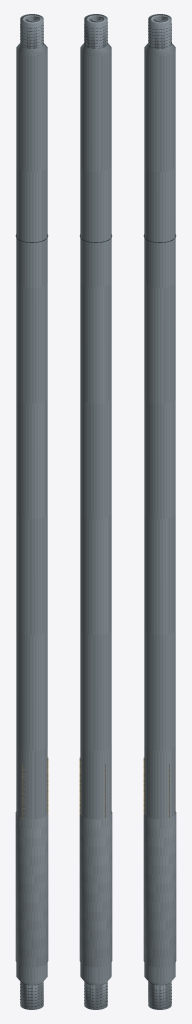
The model's file is rss.glb.
3 renders of one model, left to right at view 1: azimuth 90°, elevation 25°; view 2: azimuth 150°, elevation 25°; view 3: azimuth 270°, elevation 25°, orthographic.
Parts seen in each view (by area): view 1: tool-housing (×2), bearing-housing (×2), uphole-connection, downhole-connection; view 2: tool-housing (×2), bearing-housing (×2), uphole-connection, downhole-connection, steering-pads; view 3: tool-housing (×2), bearing-housing (×2), uphole-connection, downhole-connection.
Part boxes in pixels (box(x1,y1,x2,y2)): tool-housing (×2): box(16, 14, 47, 1009); bearing-housing (×2): box(15, 811, 48, 967); uphole-connection: box(20, 14, 43, 48); downhole-connection: box(20, 982, 43, 1009); tool-housing (×2): box(80, 14, 111, 1009); bearing-housing (×2): box(79, 811, 112, 967); uphole-connection: box(84, 14, 107, 48); downhole-connection: box(86, 982, 107, 1009); steering-pads: box(79, 758, 105, 818); tool-housing (×2): box(144, 14, 175, 1009); bearing-housing (×2): box(143, 811, 176, 967); uphole-connection: box(148, 14, 171, 48); downhole-connection: box(148, 982, 171, 1009).
Size of the model in its own units: 0.1195 by 4 by 0.1195.
3 materials, 3 textured.
